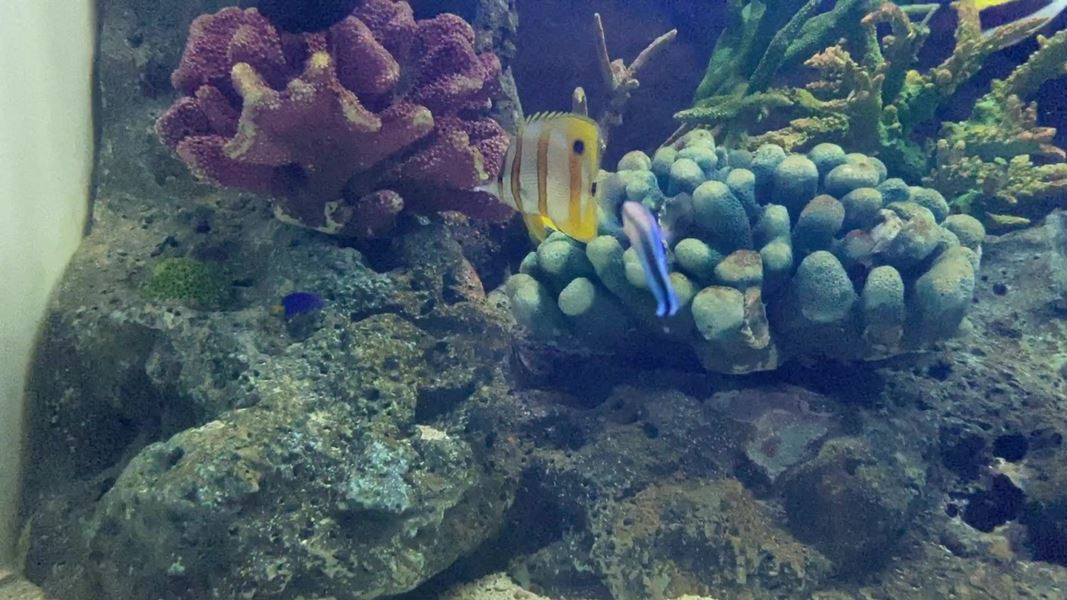Bluesteak cleaner wrasse: (606, 188, 686, 330)
